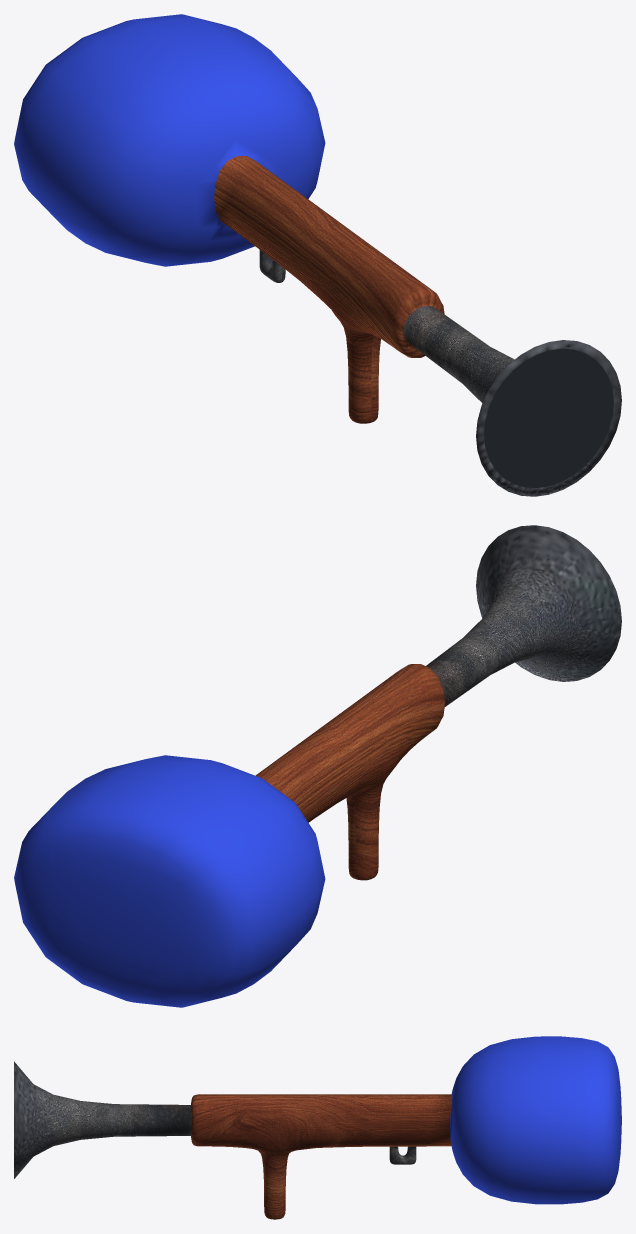
File: musket.glb
3 renders of one model, top to bottom at view 1: azimuth 30°, elevation 25°; view 2: azimuth 150°, elevation 25°; view 3: azimuth 270°, elevation 25°, orthographic. The views are drawn at different scales.
Visible parts, largest first — view 1: Circle.003; view 2: Circle.003; view 3: Circle.003.
Part boxes in pixels (bbox=[...]): Circle.003: bbox=[14, 14, 621, 496]; Circle.003: bbox=[14, 525, 621, 1007]; Circle.003: bbox=[14, 1036, 621, 1219].
Bounding box in the file's own units: 3.5 × 3.13 × 10.25.
3 materials, 2 textured.
